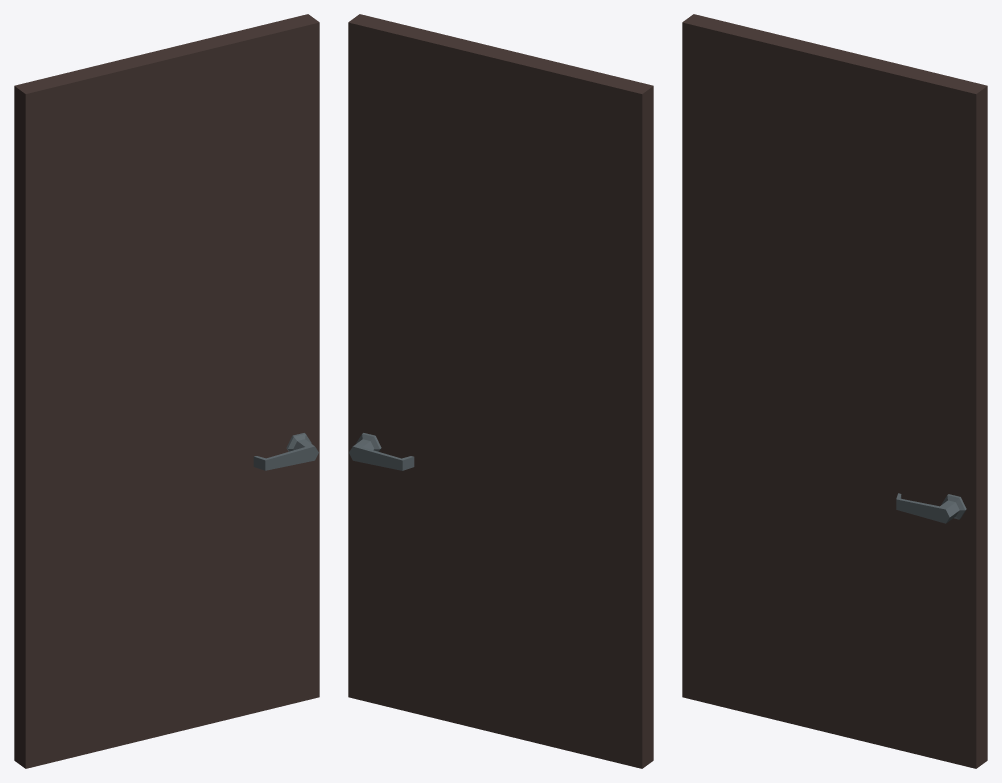
The model's file is SM_Bld_Base_Door_Large_01_672.obj.
The picture shows the model from 3 angles, left to right: view 1: azimuth 30°, elevation 25°; view 2: azimuth 150°, elevation 25°; view 3: azimuth 330°, elevation 25°; orthographic projection.
Parts seen in each view (by area): view 1: SM_Bld_Base_Door_Large_01_0; view 2: SM_Bld_Base_Door_Large_01_0; view 3: SM_Bld_Base_Door_Large_01_0.
Part boxes in pixels (box(x1,y1,x2,y2)): SM_Bld_Base_Door_Large_01_0: box(14, 14, 319, 768); SM_Bld_Base_Door_Large_01_0: box(348, 14, 653, 768); SM_Bld_Base_Door_Large_01_0: box(682, 14, 987, 768).
Bounding box in the file's own units: 1.12 × 2.47 × 0.2473.
1 material, 1 textured.
